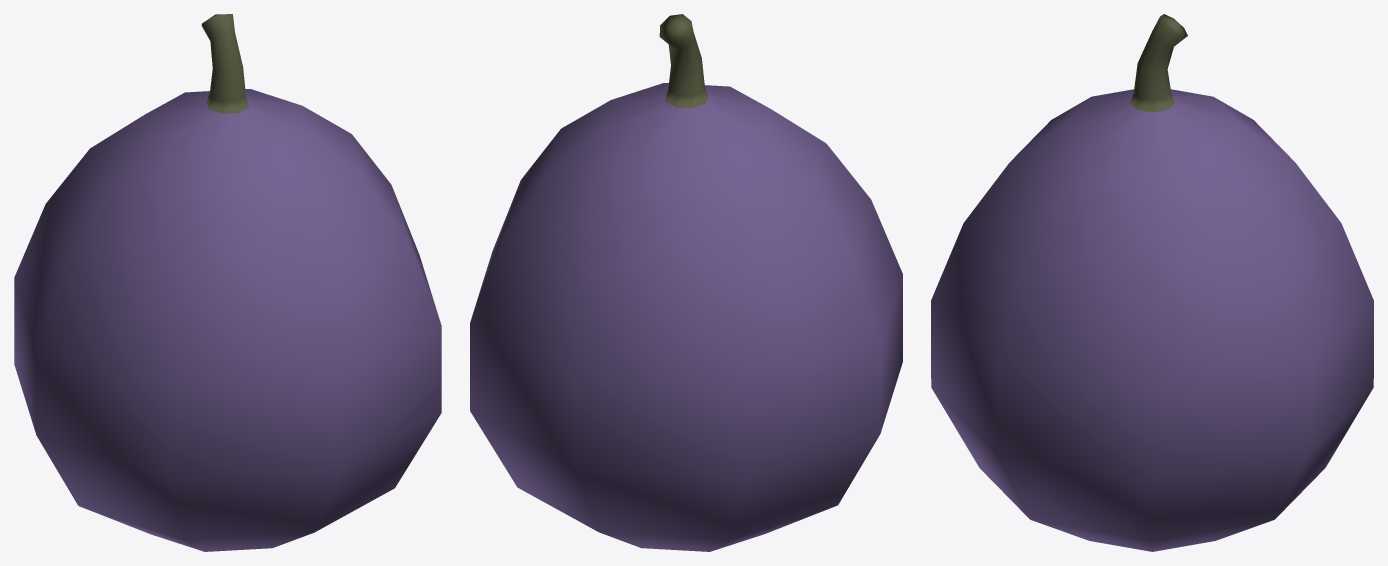
Rendered from grape_02.fbx.
3 views of the same model, side by side, from view 1: azimuth 30°, elevation 25°; view 2: azimuth 150°, elevation 25°; view 3: azimuth 270°, elevation 25° (orthographic).
Visible parts, largest first — view 1: pSphere2; view 2: pSphere2; view 3: pSphere2.
Part boxes in pixels (bbox=[...]): pSphere2: bbox=[14, 14, 441, 551]; pSphere2: bbox=[470, 14, 902, 551]; pSphere2: bbox=[931, 14, 1373, 551].
Bounding box in the file's own units: 3.9 × 4.91 × 3.9.
